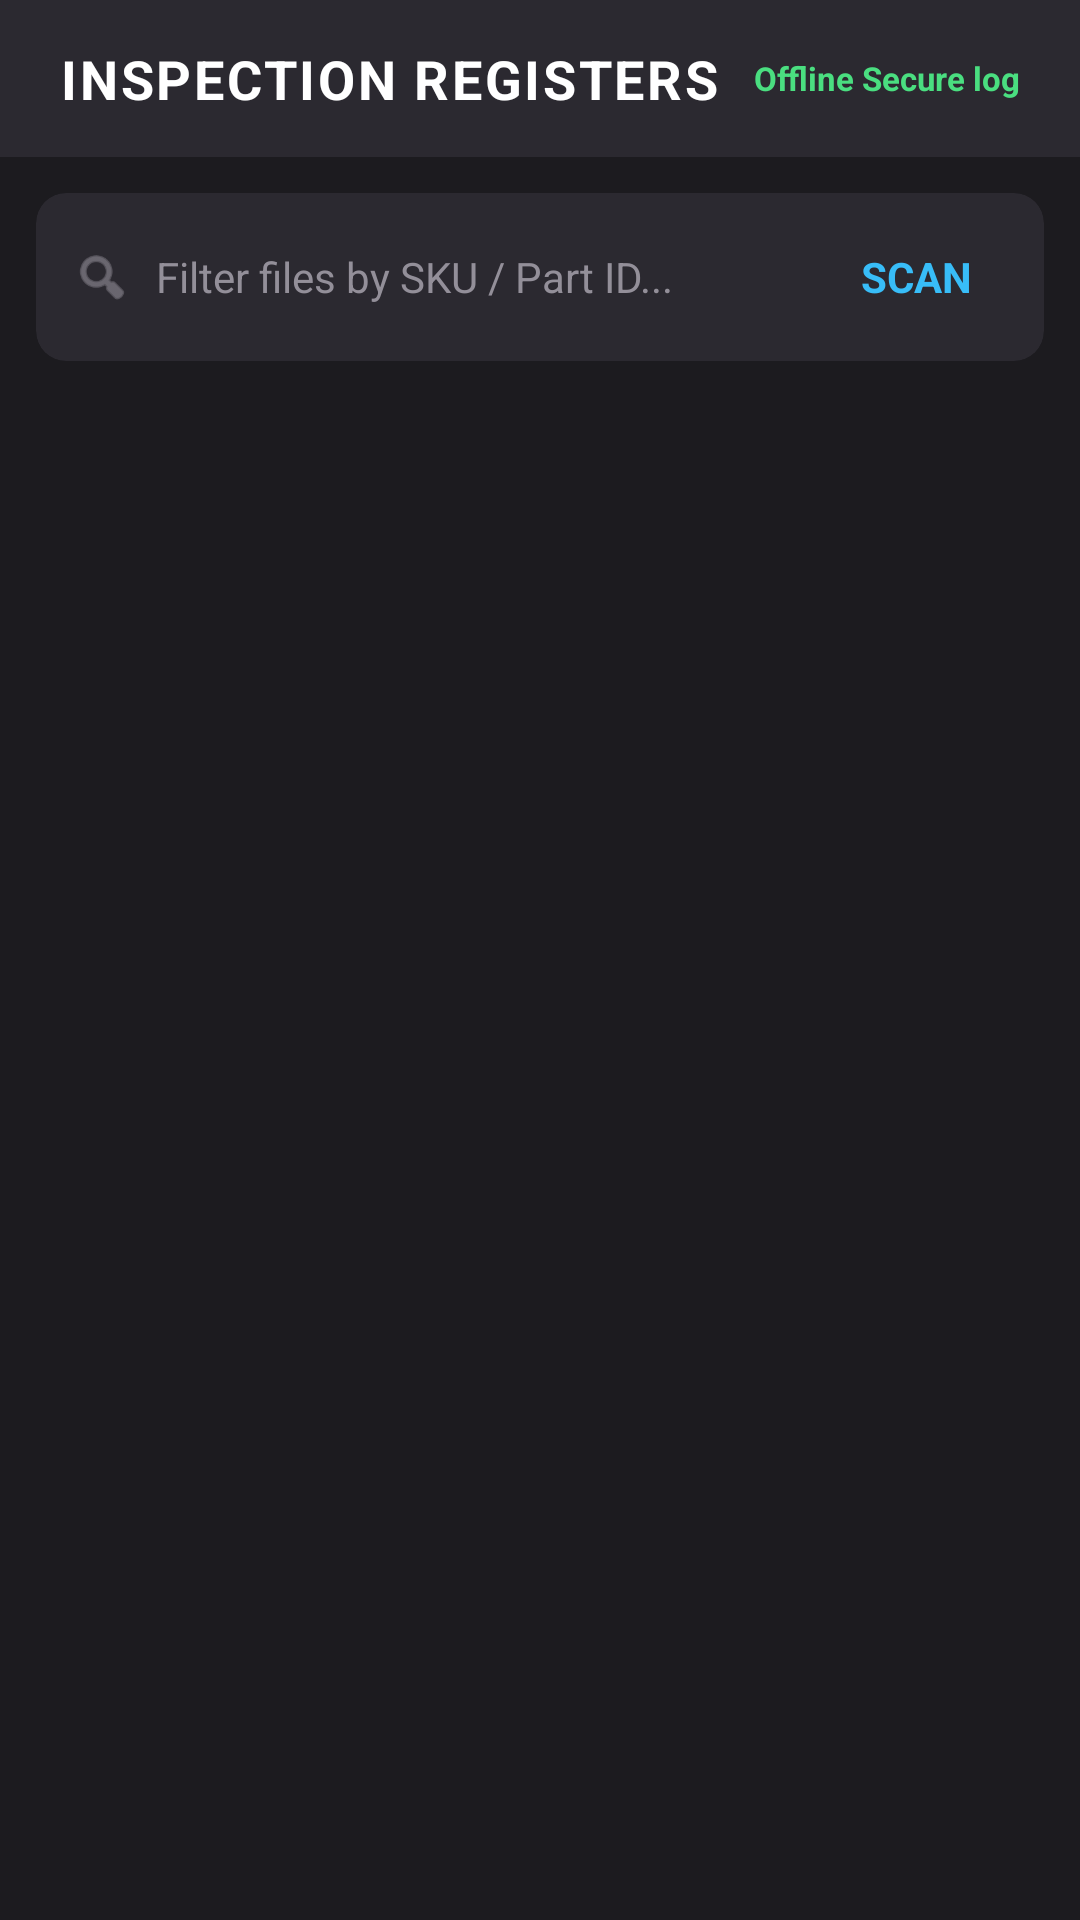

Named icons in this screenshot (1080w x 1920h) and their centers, (x=x, y=y):
Search Icon: (x=102, y=277)
